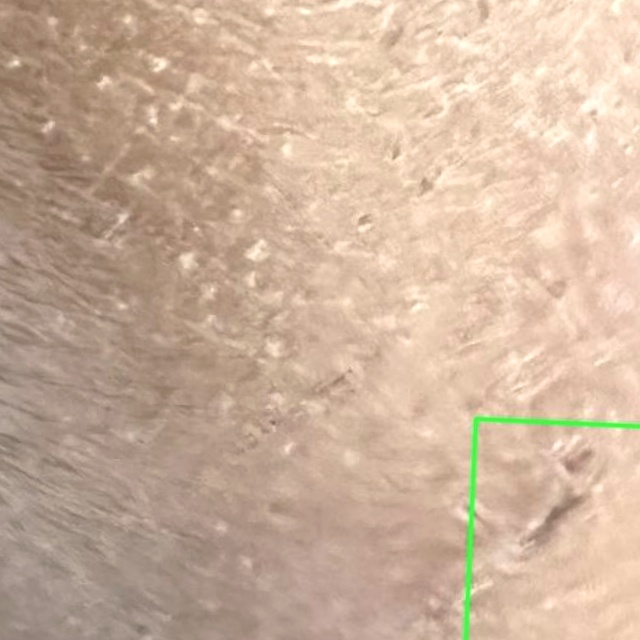Atopic Dermatitis: (466, 418, 639, 639)
